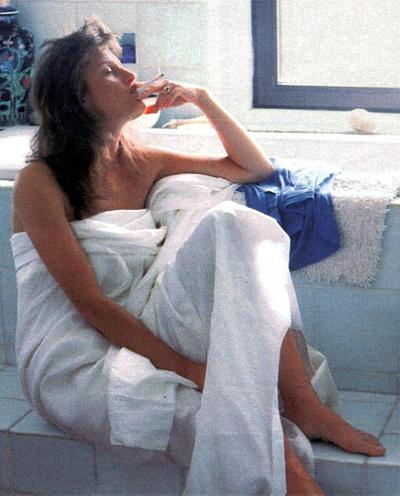person: (10, 23, 387, 496)
